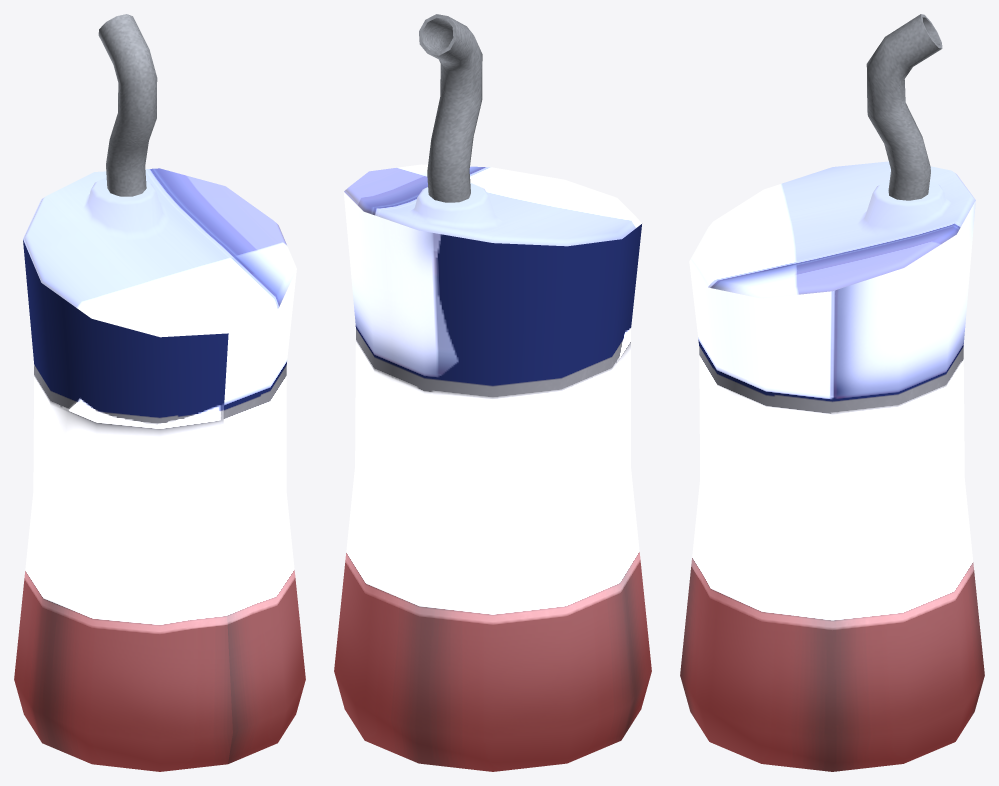
The model's file is SM_SoyBottle_01.fbx.
3 views of the same model, side by side, from view 1: azimuth 30°, elevation 25°; view 2: azimuth 150°, elevation 25°; view 3: azimuth 270°, elevation 25° (orthographic). The views are drawn at different scales.
Visible parts, largest first — view 1: SM_SoyBottle_01_LOD0; view 2: SM_SoyBottle_01_LOD0; view 3: SM_SoyBottle_01_LOD0.
Part boxes in pixels (x1,y1,x2,y2): SM_SoyBottle_01_LOD0: (14, 14, 305, 771); SM_SoyBottle_01_LOD0: (334, 14, 651, 771); SM_SoyBottle_01_LOD0: (680, 14, 984, 771).
Bounding box in the file's own units: 6.13 × 6.13 × 15.74.
